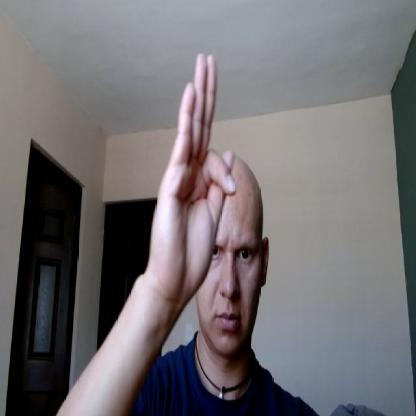F: (149, 51, 238, 305)
